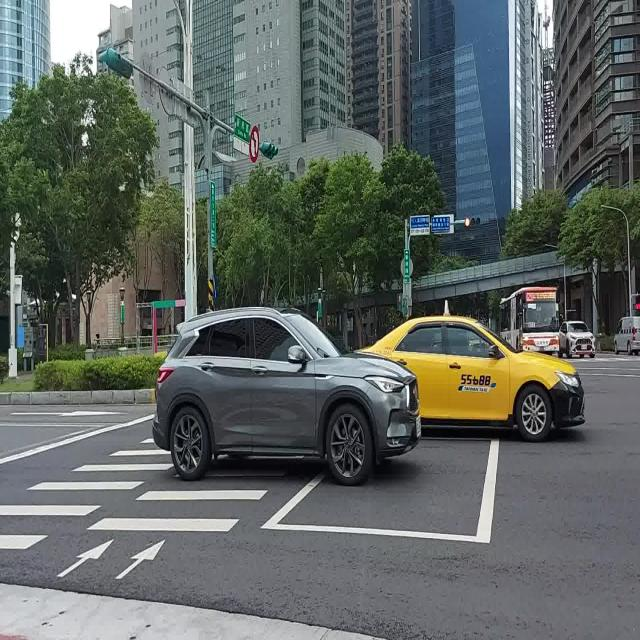bus: (500, 287, 560, 353)
car: (152, 307, 420, 484), (368, 316, 585, 442), (560, 320, 595, 358), (614, 316, 640, 353), (408, 362, 422, 377)
crosswalk: (0, 434, 173, 552), (82, 487, 273, 533)
